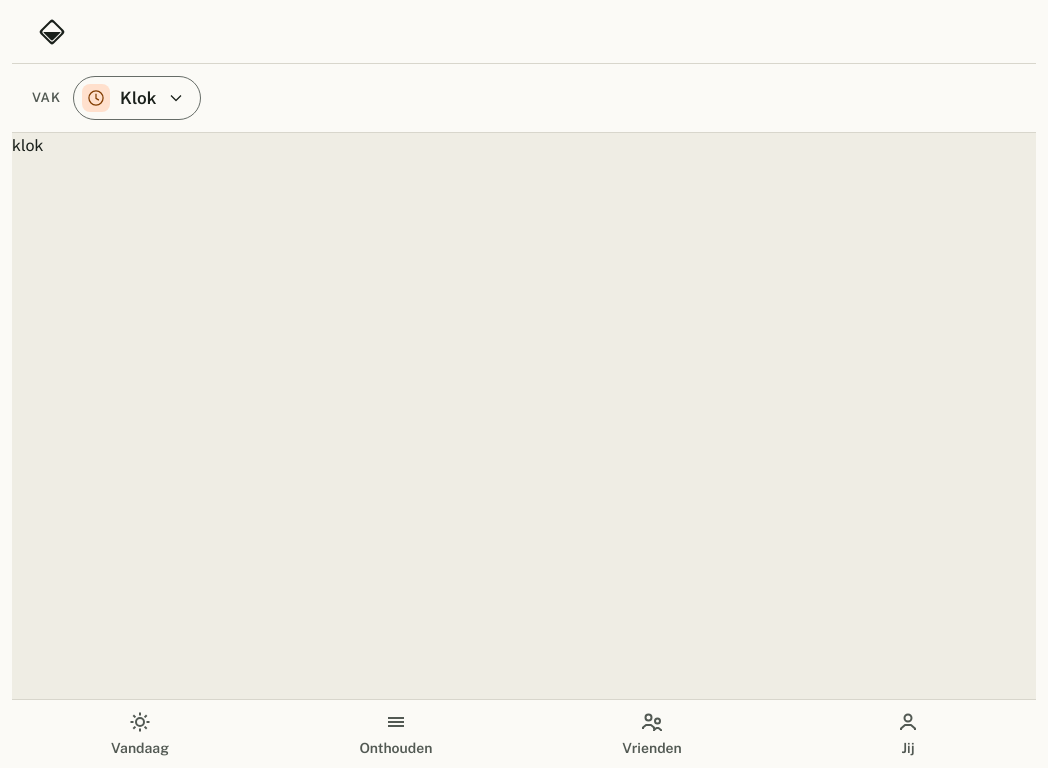
Test case: the shell › opens the modules as a list below 1200, and gives focus back when it closes
Click the button named "vak Klok" at {"x": 137, "y": 98}, box 73,76 -> 201,120
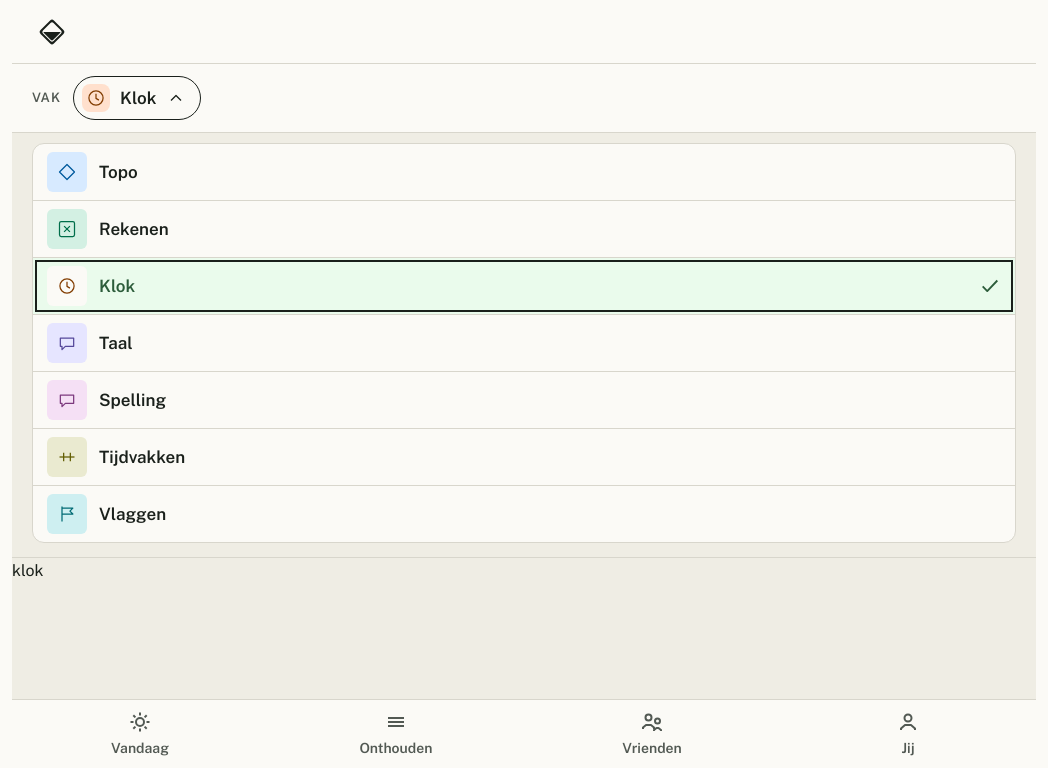
Now the button named "vak Klok" is expanded, box 73,76 -> 201,120
Note: Escape closes it and puts focus back on the button that opened it.
Press Escape in the 2nd button "Klok", box 33,258 -> 1015,314
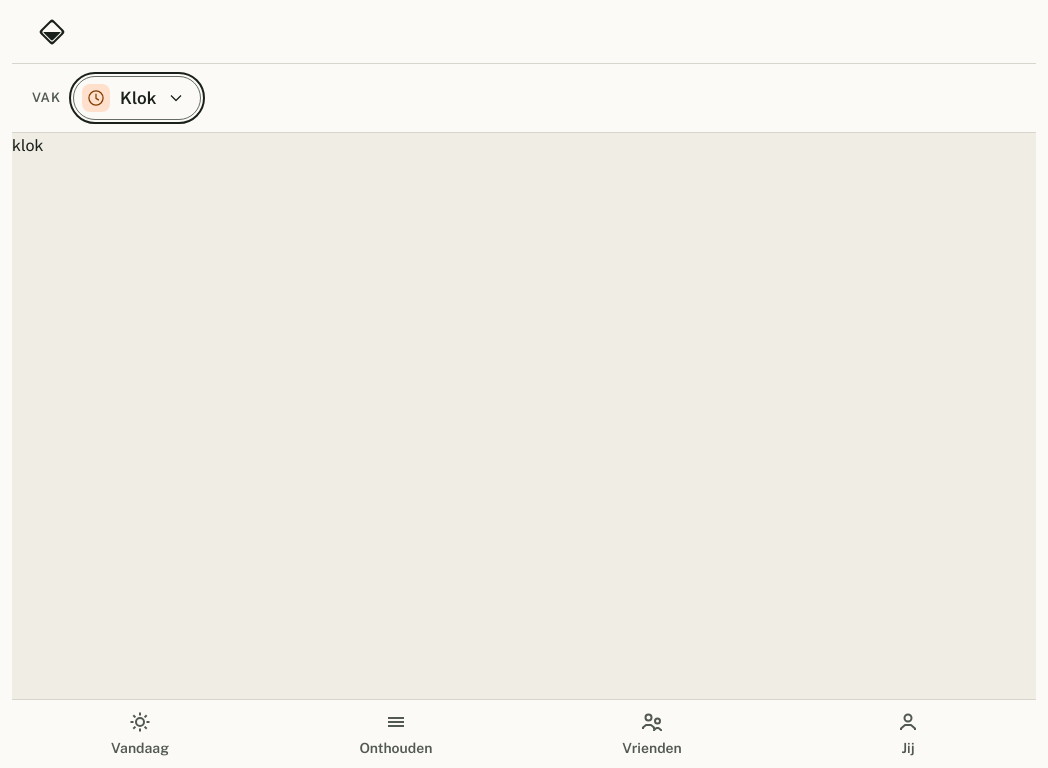
Now the button named "vak Klok" is collapsed
Note: A choice closes it too, and goes where it was asked to.
Click the button named "vak Klok" at {"x": 137, "y": 98}, box 73,76 -> 201,120
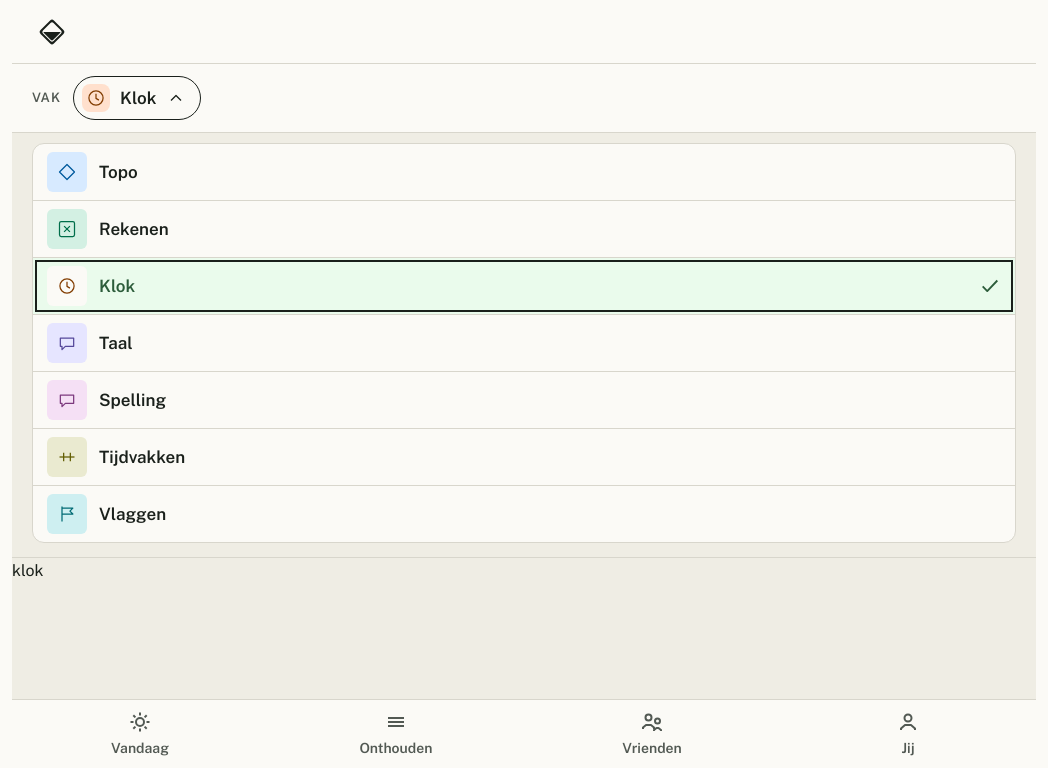
Click the button "Taal" at {"x": 67, "y": 343}, box 33,315 -> 1015,371
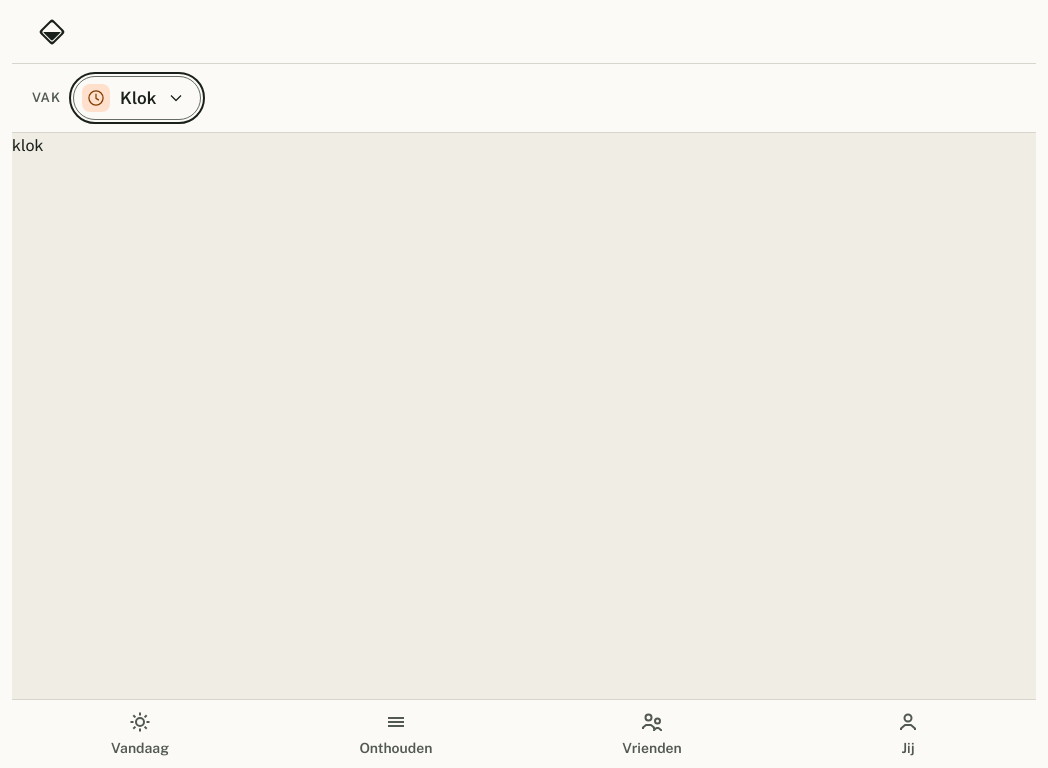
Now the button named "vak Klok" is collapsed, box 73,76 -> 201,120
